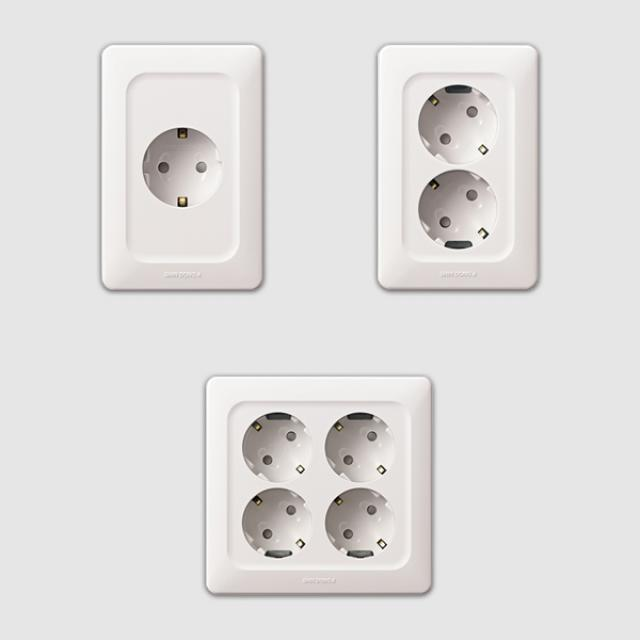typeb: (174, 367, 458, 606), (362, 30, 582, 332), (82, 32, 303, 317)
